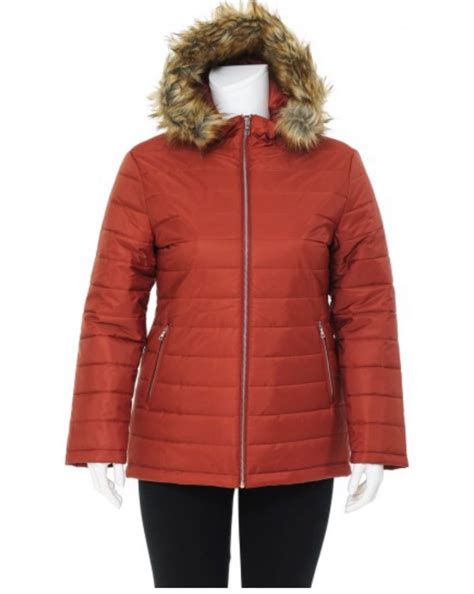nylon: (64, 115, 410, 488)
